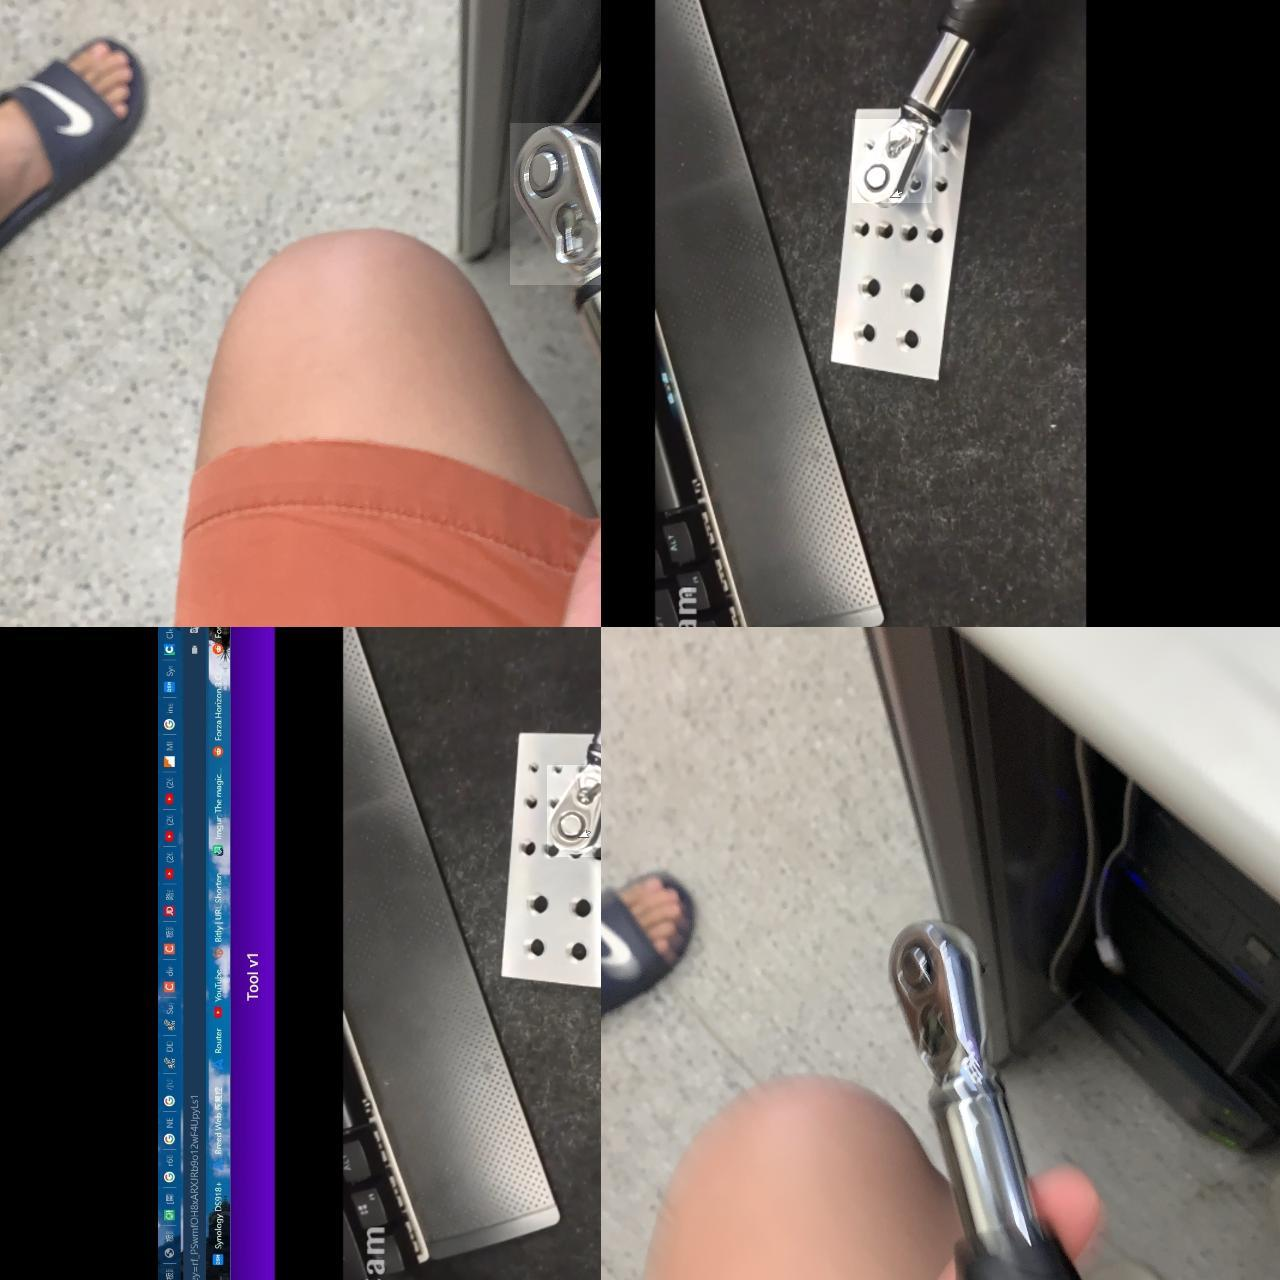Tool: (509, 123, 601, 285), (851, 120, 931, 203), (546, 765, 601, 857)
